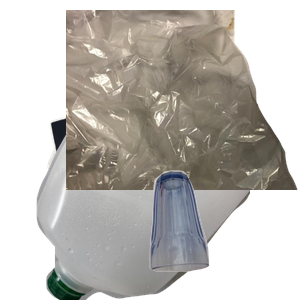glass: (147, 168, 300, 300)
paper: (45, 34, 230, 214)
plastic: (34, 120, 274, 300)
trash: (66, 10, 300, 190)
